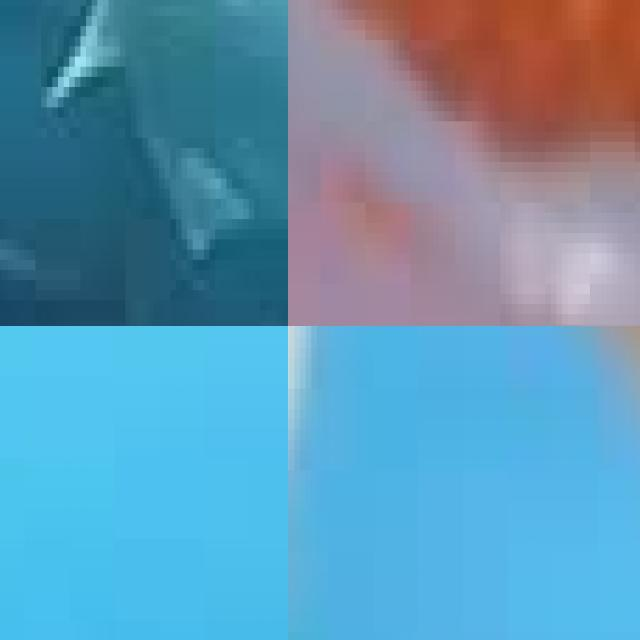fish: (288, 0, 640, 326), (0, 0, 288, 326)
